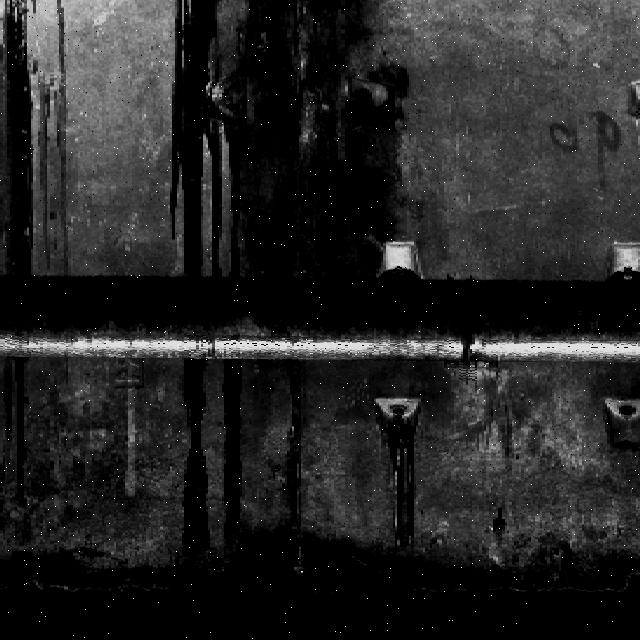leakage: (0, 536, 639, 640), (228, 1, 413, 280), (0, 2, 73, 278), (152, 1, 223, 281), (165, 361, 209, 569), (215, 361, 247, 557), (378, 413, 422, 552), (281, 359, 308, 528), (0, 363, 31, 506)
